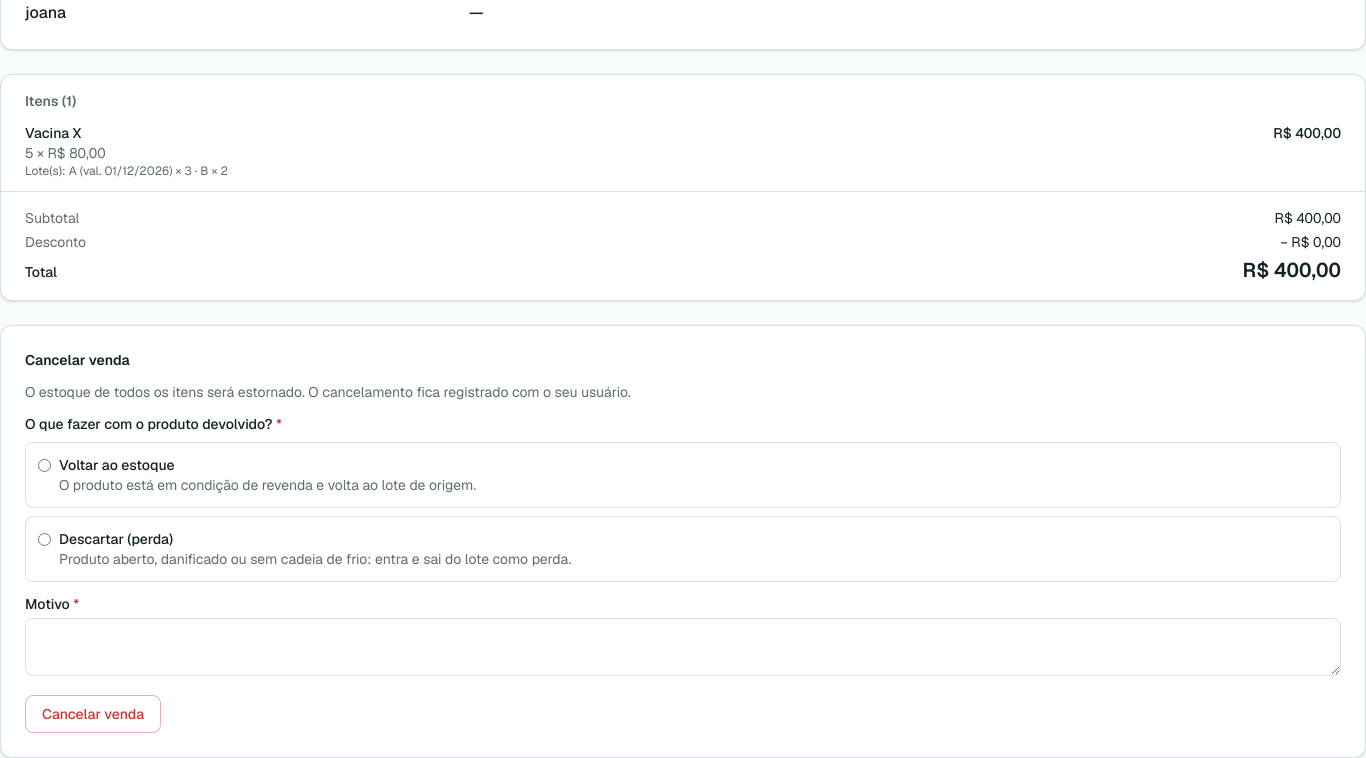
Scenario: venda com lote › cancelar exige escolher o destino: nenhuma opção vem marcada e o envio é bloqueado
(page scrolled)
Expected: the radio button labelled "Voltar ao estoque" is not checked, [38,459,51,472]
Expected: the radio button labelled "Descartar (perda)" is not checked, [38,533,51,546]
Type "Cliente devolveu o produto" into the text box labelled "Motivo *" at (683, 647), box [25,618,1341,676]
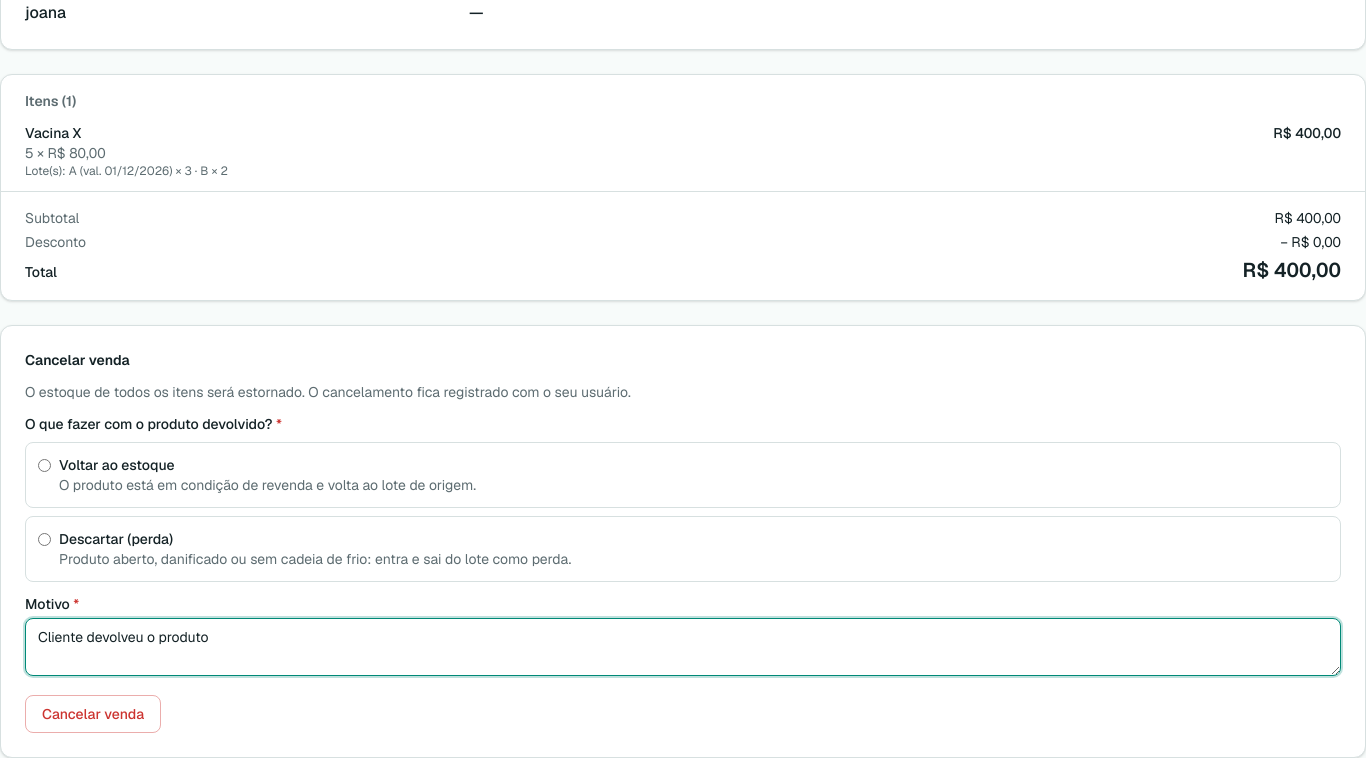
Click the button "Cancelar venda" at (93, 714), box [25,695,161,733]
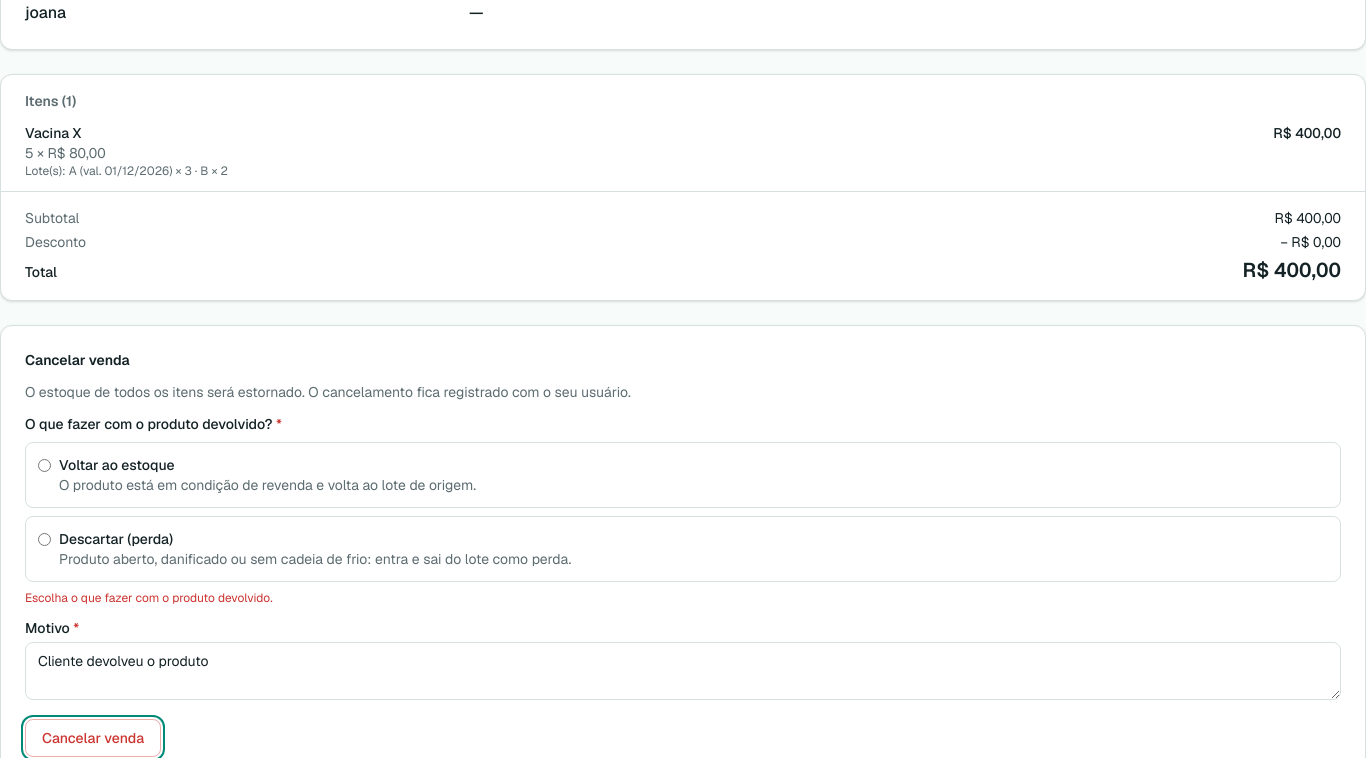
Now the text "Escolha o que fazer com o produto devolvido." is shown, box [25,590,273,606]
